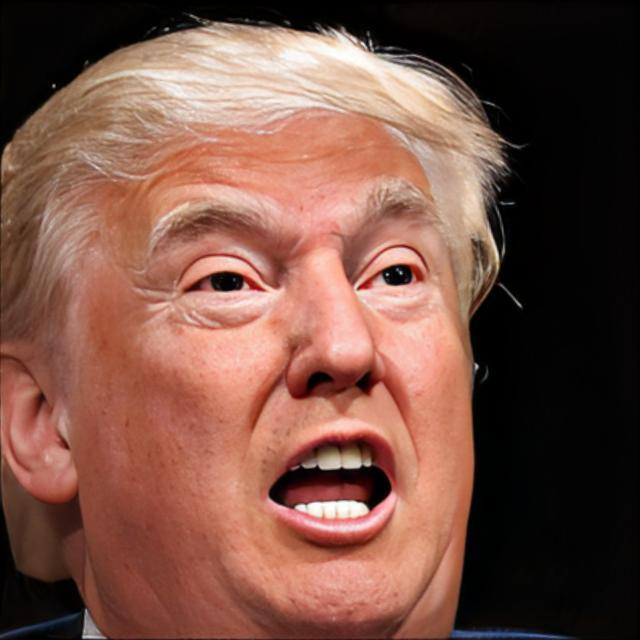anger: (74, 79, 478, 632)
